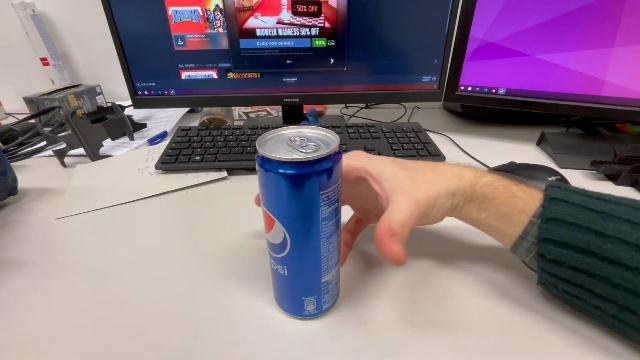Pepsi: (253, 123, 343, 323)
